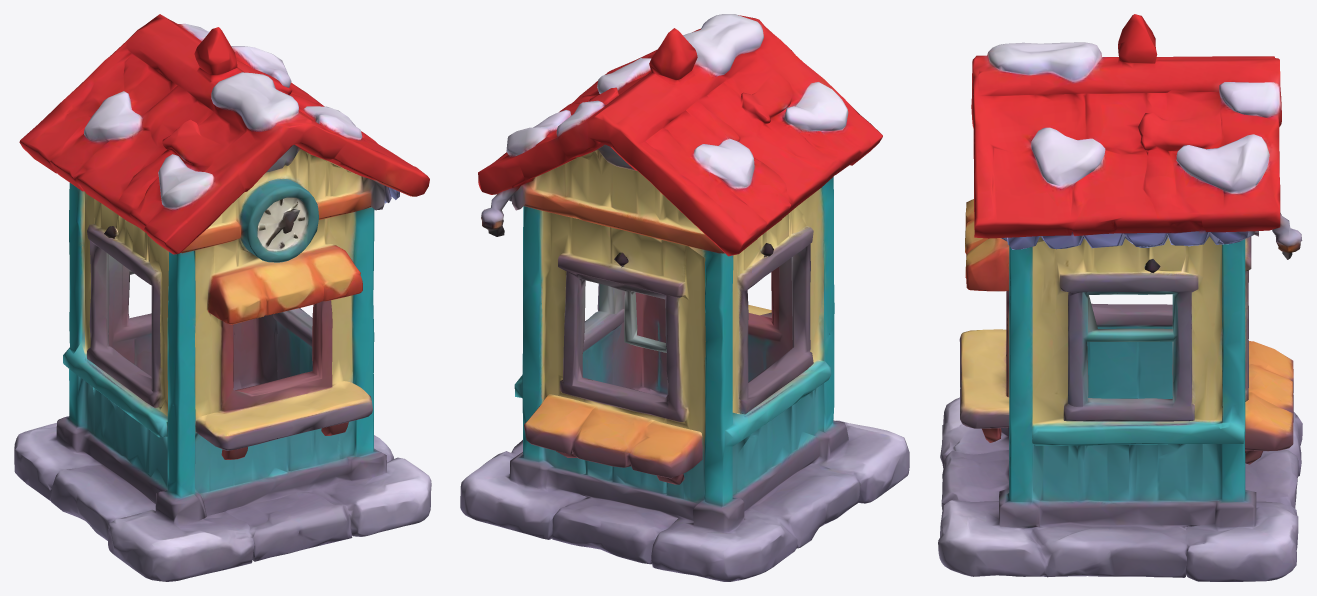
Rendered from ticket_booth.glb.
3 views of the same model, side by side, from view 1: azimuth 30°, elevation 25°; view 2: azimuth 150°, elevation 25°; view 3: azimuth 270°, elevation 25° (orthographic). The views are drawn at different scales.
Parts seen in each view (by area): view 1: tripo_node_03cbfe69-edb8-4284-9483-a4d1222d447e; view 2: tripo_node_03cbfe69-edb8-4284-9483-a4d1222d447e; view 3: tripo_node_03cbfe69-edb8-4284-9483-a4d1222d447e.
Part boxes in pixels (x1,y1,x2,y2): tripo_node_03cbfe69-edb8-4284-9483-a4d1222d447e: [14, 14, 431, 581]; tripo_node_03cbfe69-edb8-4284-9483-a4d1222d447e: [460, 14, 909, 581]; tripo_node_03cbfe69-edb8-4284-9483-a4d1222d447e: [938, 14, 1302, 581].
Bounding box in the file's own units: 0.6943 × 1 × 0.671.
Materials: 1 (1 with a texture image).
